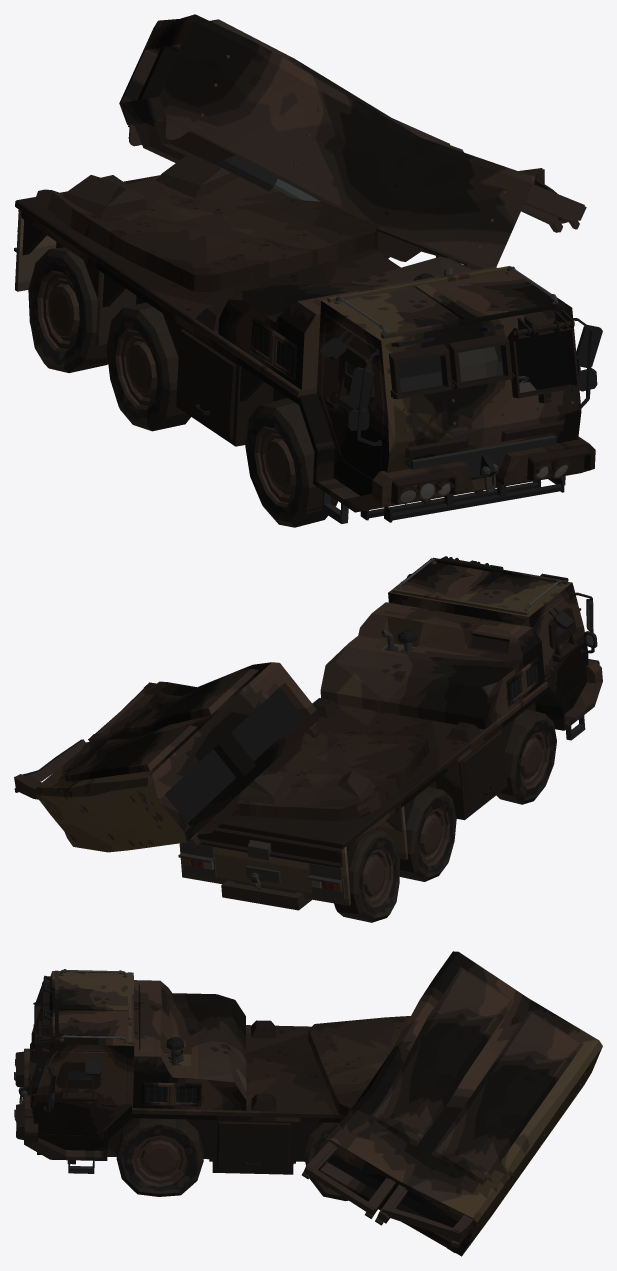
The model's file is SM_Veh_Rocket_Truck_01_Destroyed.fbx.
3 renders of one model, top to bottom at view 1: azimuth 30°, elevation 25°; view 2: azimuth 150°, elevation 25°; view 3: azimuth 270°, elevation 25°, orthographic. The views are drawn at different scales.
Visible parts, largest first — view 1: SM_Veh_Rocket_Truck_01_Destroyed; view 2: SM_Veh_Rocket_Truck_01_Destroyed; view 3: SM_Veh_Rocket_Truck_01_Destroyed.
Part boxes in pixels (x1,y1,x2,y2): SM_Veh_Rocket_Truck_01_Destroyed: [14, 14, 602, 527]; SM_Veh_Rocket_Truck_01_Destroyed: [14, 556, 602, 922]; SM_Veh_Rocket_Truck_01_Destroyed: [14, 951, 602, 1256].
Size of the model in its own units: 712 by 427 by 1049.
